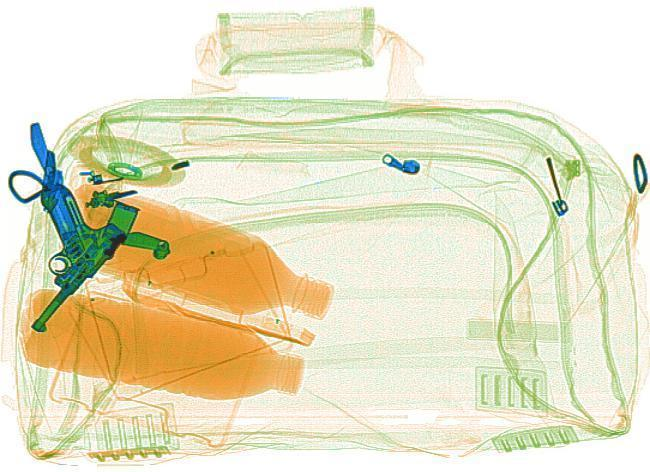Gun: (0, 186, 207, 344), (11, 112, 128, 271)
